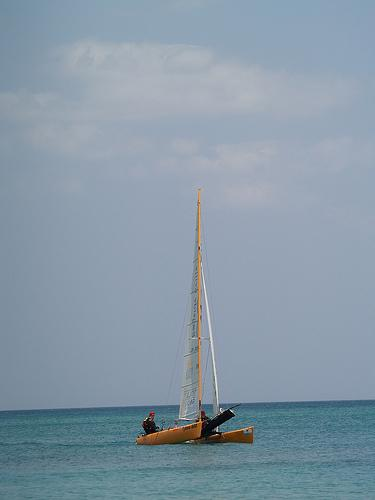Ship: (135, 187, 256, 447)
